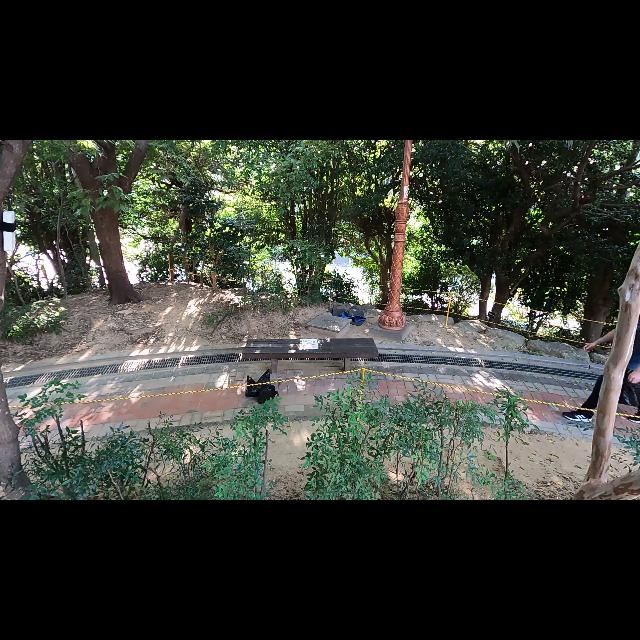trash: (328, 304, 368, 326), (252, 370, 276, 400), (253, 378, 280, 402), (242, 374, 262, 398)
